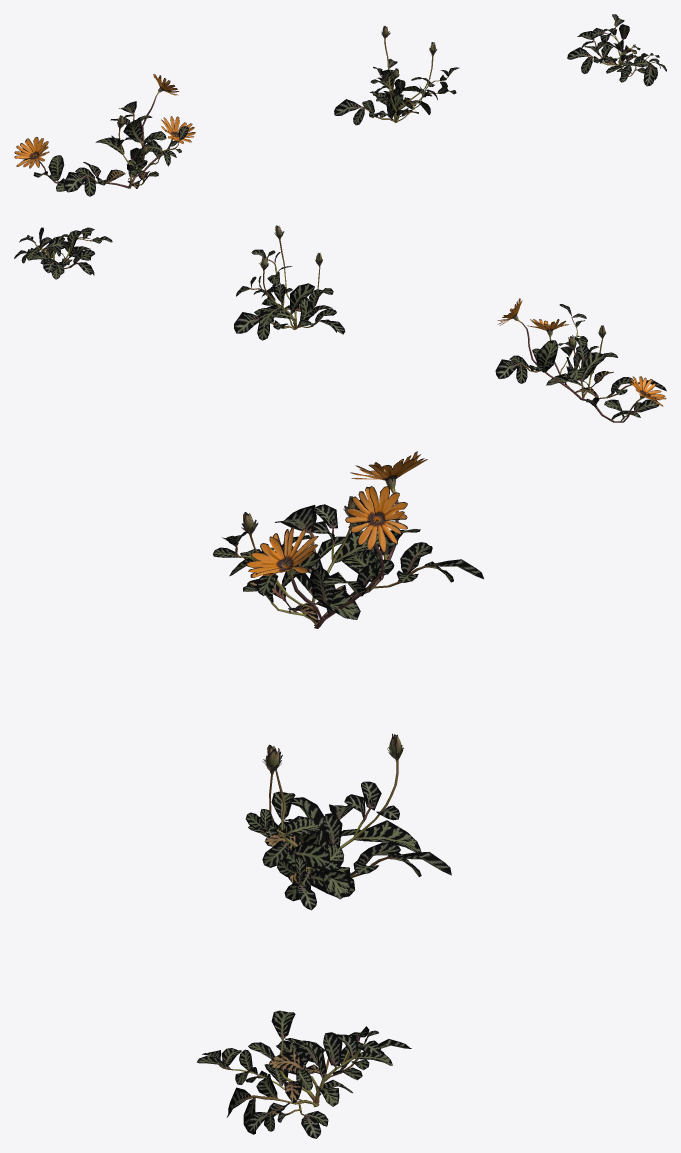
Rendered from ursinia.glb.
3 views of the same model, one above another, from view 1: azimuth 30°, elevation 25°; view 2: azimuth 150°, elevation 25°; view 3: azimuth 270°, elevation 25° (orthographic). The views are drawn at different scales.
Parts seen in each view (by area): view 1: flower_ursinia_c_LOD0, flower_ursinia_d_LOD0, flower_ursinia_e_LOD0; view 2: flower_ursinia_c_LOD0, flower_ursinia_d_LOD0, flower_ursinia_e_LOD0; view 3: flower_ursinia_c_LOD0, flower_ursinia_d_LOD0, flower_ursinia_e_LOD0.
Part boxes in pixels (<box>): flower_ursinia_c_LOD0: <box>14,74,195,196</box>; flower_ursinia_d_LOD0: <box>334,26,459,125</box>; flower_ursinia_e_LOD0: <box>567,14,666,86</box>; flower_ursinia_c_LOD0: <box>495,298,666,422</box>; flower_ursinia_d_LOD0: <box>234,225,345,340</box>; flower_ursinia_e_LOD0: <box>14,227,112,279</box>; flower_ursinia_c_LOD0: <box>213,451,483,628</box>; flower_ursinia_d_LOD0: <box>245,733,451,910</box>; flower_ursinia_e_LOD0: <box>197,1010,411,1138</box>.
Bounding box in the file's own units: 1.05 × 0.1573 × 0.2105.
1 material, 1 textured.
